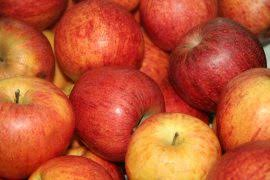Apple: (163, 19, 269, 109), (64, 67, 169, 157), (51, 4, 150, 83), (123, 115, 219, 180)
